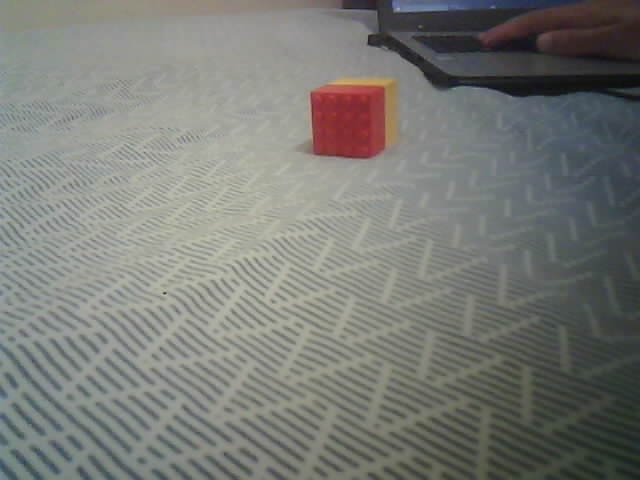lego: (308, 77, 398, 160)
